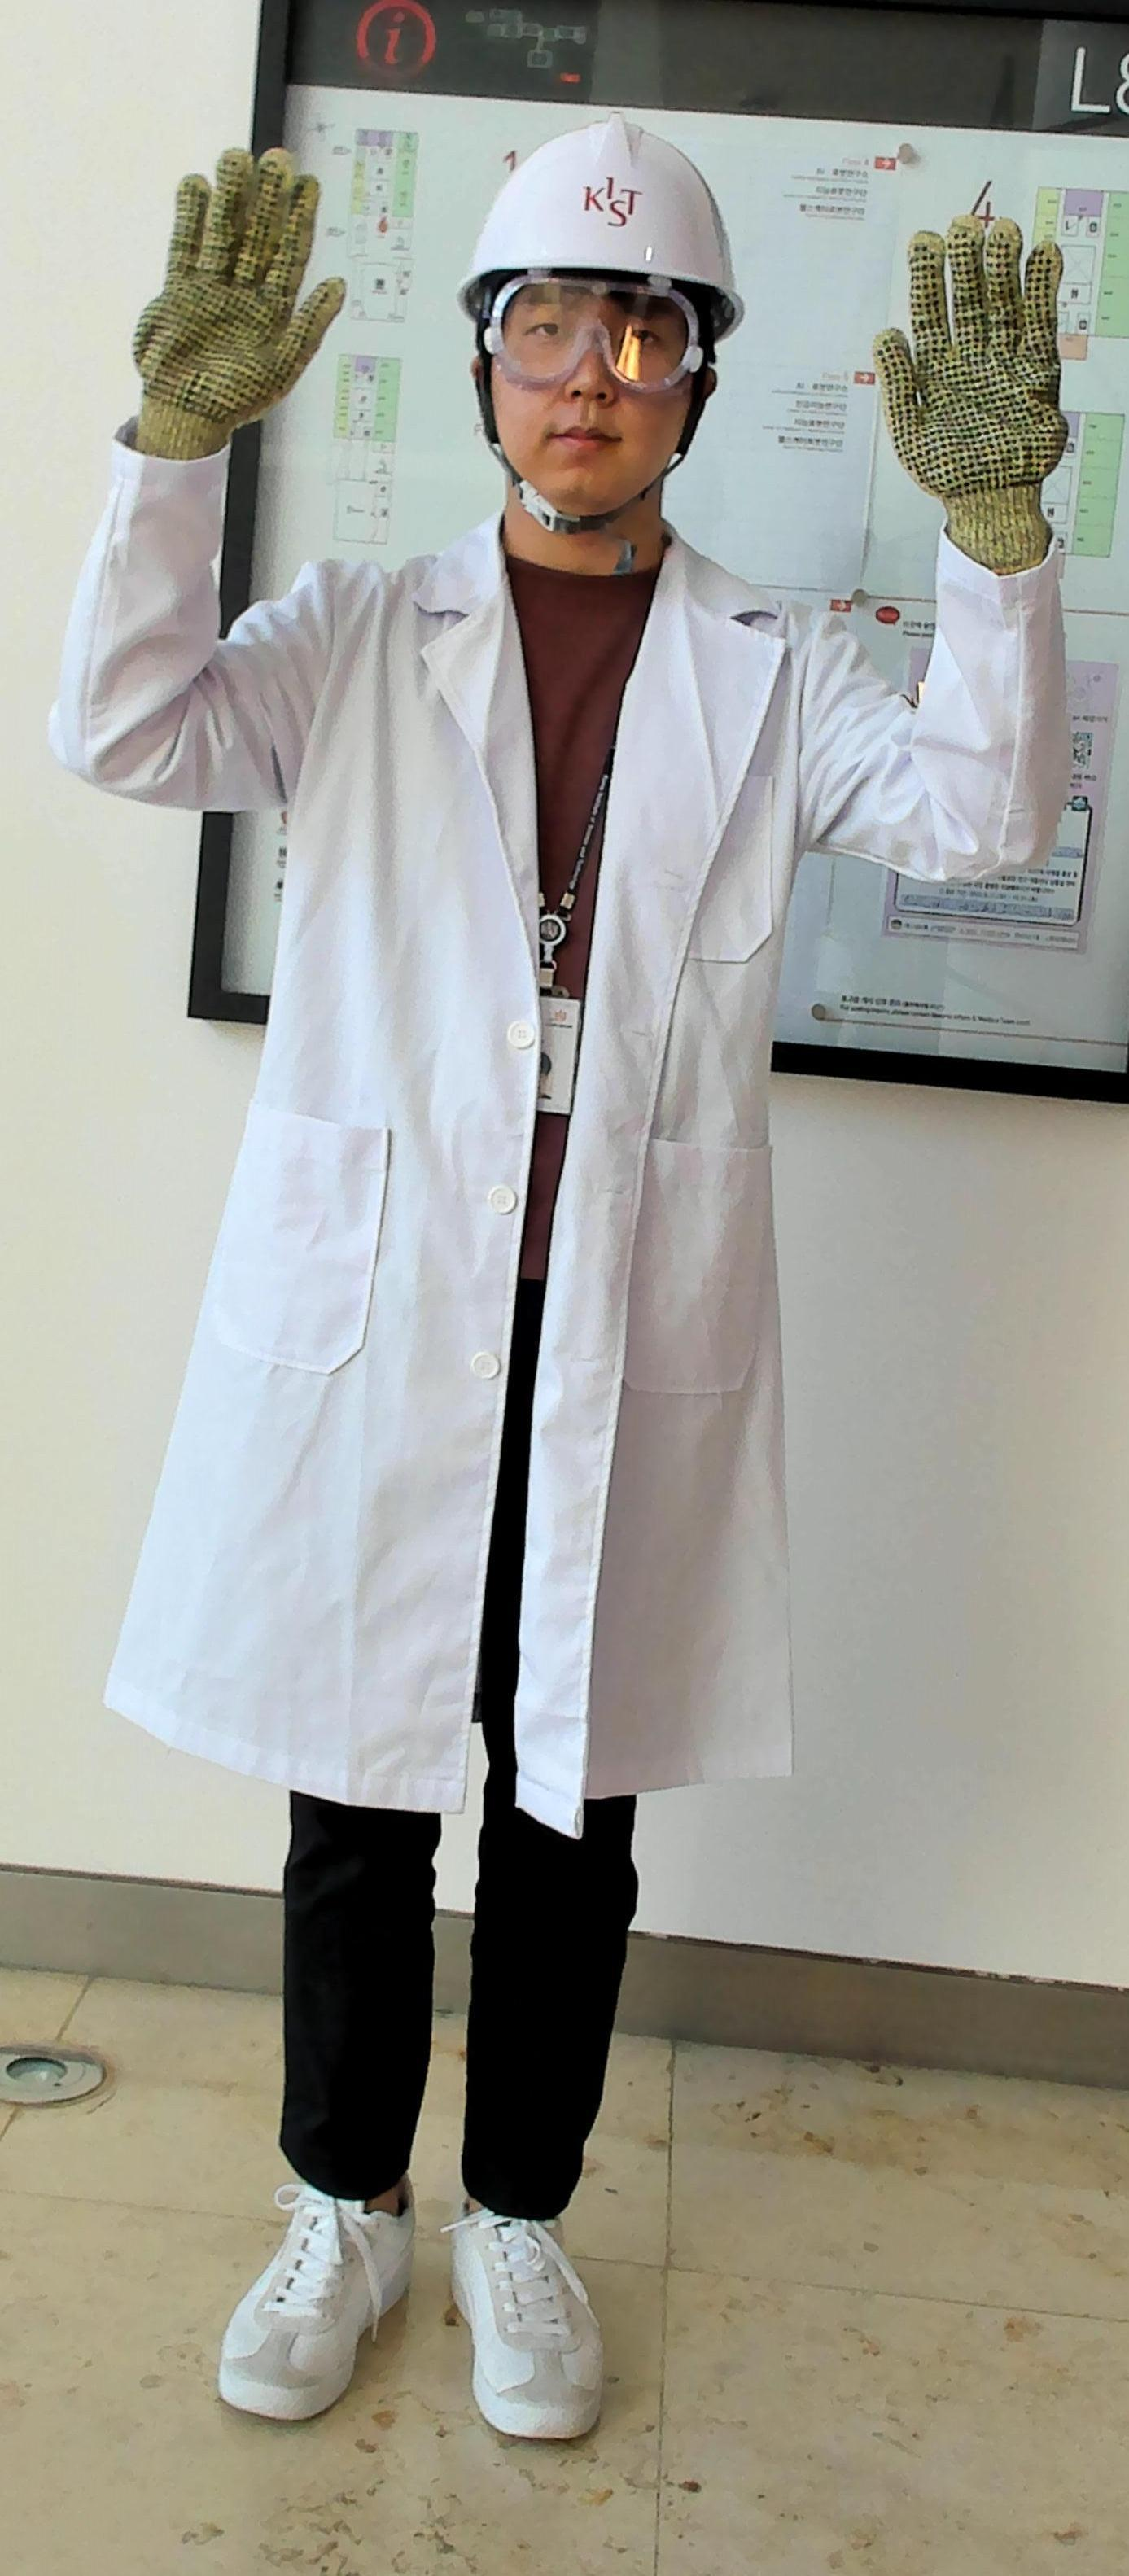lab_coat: (225, 603, 822, 1768)
